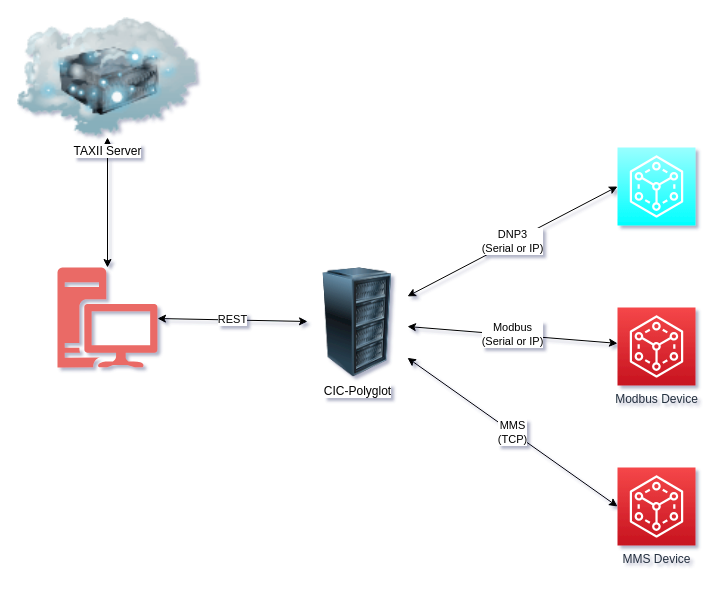
This 721x589 diagram has some shape labels left out. The centre of each missing label's shape, as x and y in pixels:
DNP3 Device: (x=656, y=186)
TAXII Client: (x=107, y=317)
